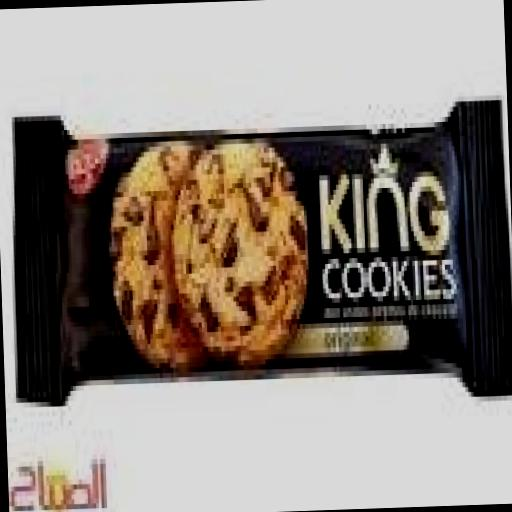king-cooking: (2, 65, 512, 442)
